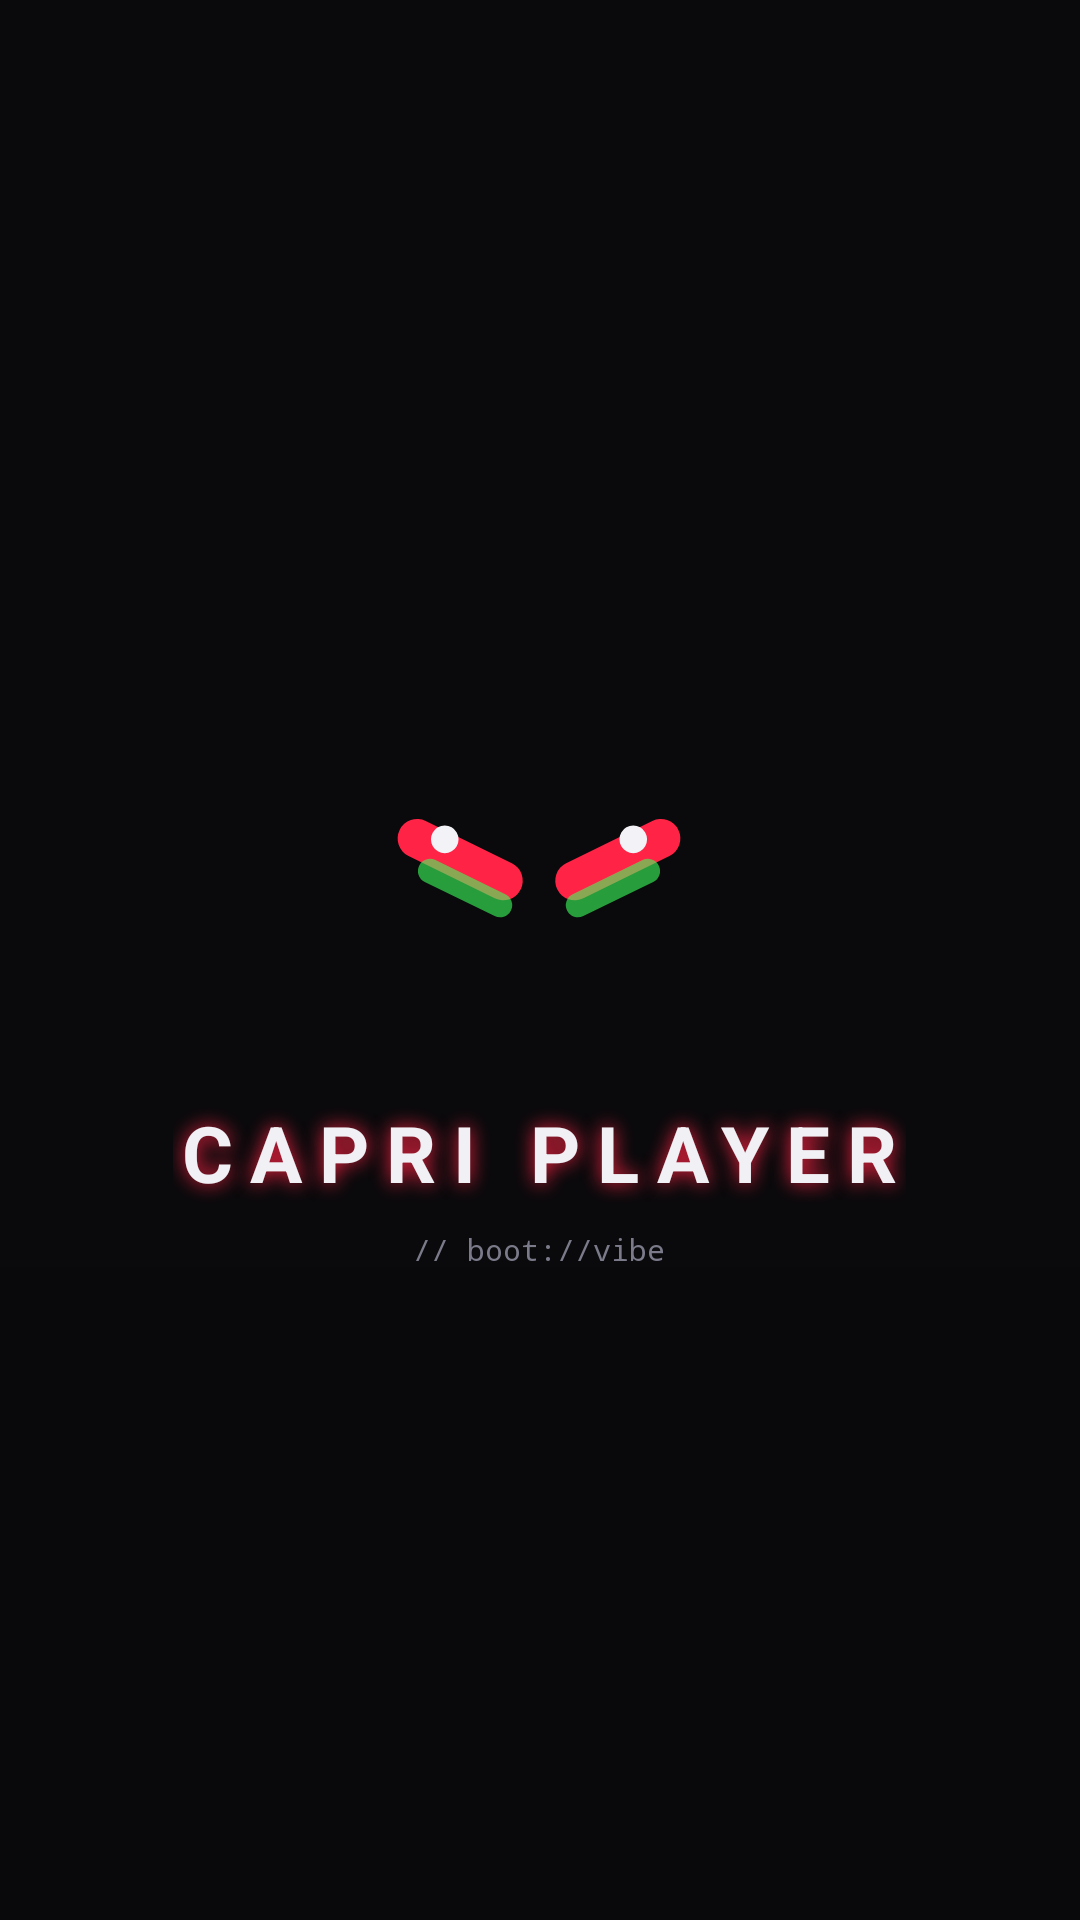

Icons on this 1080x1920 Android screen, each with its box as (x1, y1, x2, y2):
eyes: (397, 819, 681, 918)
